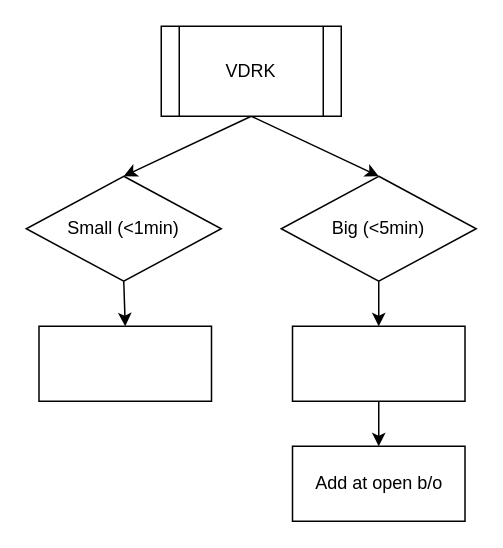
Image size: 503x548. Some labels were removed from this diagram. Here are the shapes that lost their labels. From the top down, the box of each, then its label:
(38, 325, 212, 401): Open b/o (2 tries)
(291, 325, 465, 401): 1min cndl b/o off a level
